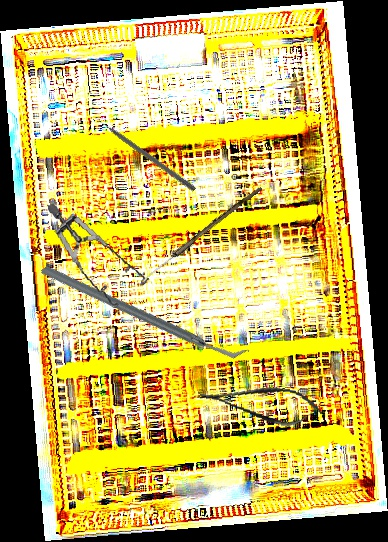Chopper: (38, 202, 251, 421)
Micro Scissor: (194, 374, 326, 432)
Pusher: (91, 112, 198, 193)
Speculum: (47, 191, 153, 316)
Surgical Spoon: (141, 183, 263, 284)
